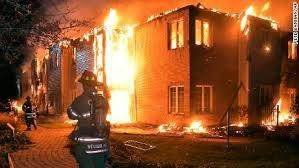fire: (89, 9, 139, 126), (237, 0, 277, 32), (264, 95, 295, 126), (186, 118, 208, 133)
